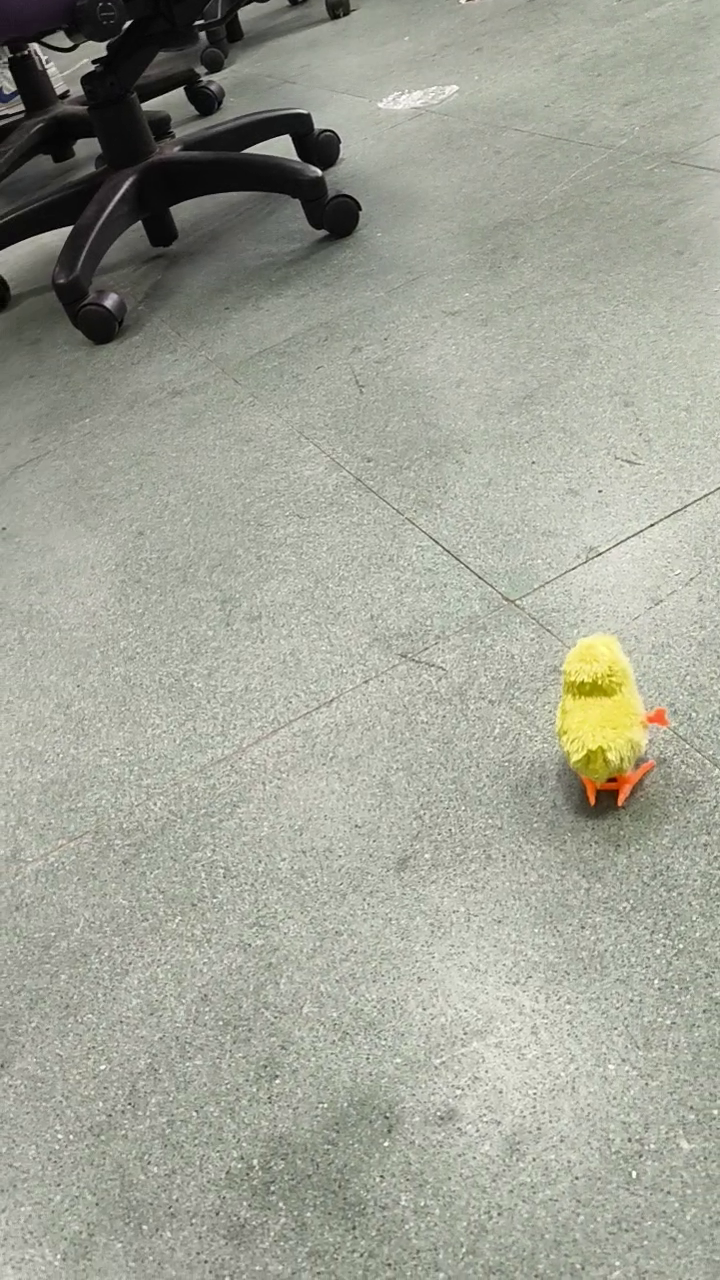yellow chicken: (553, 628, 655, 810)
